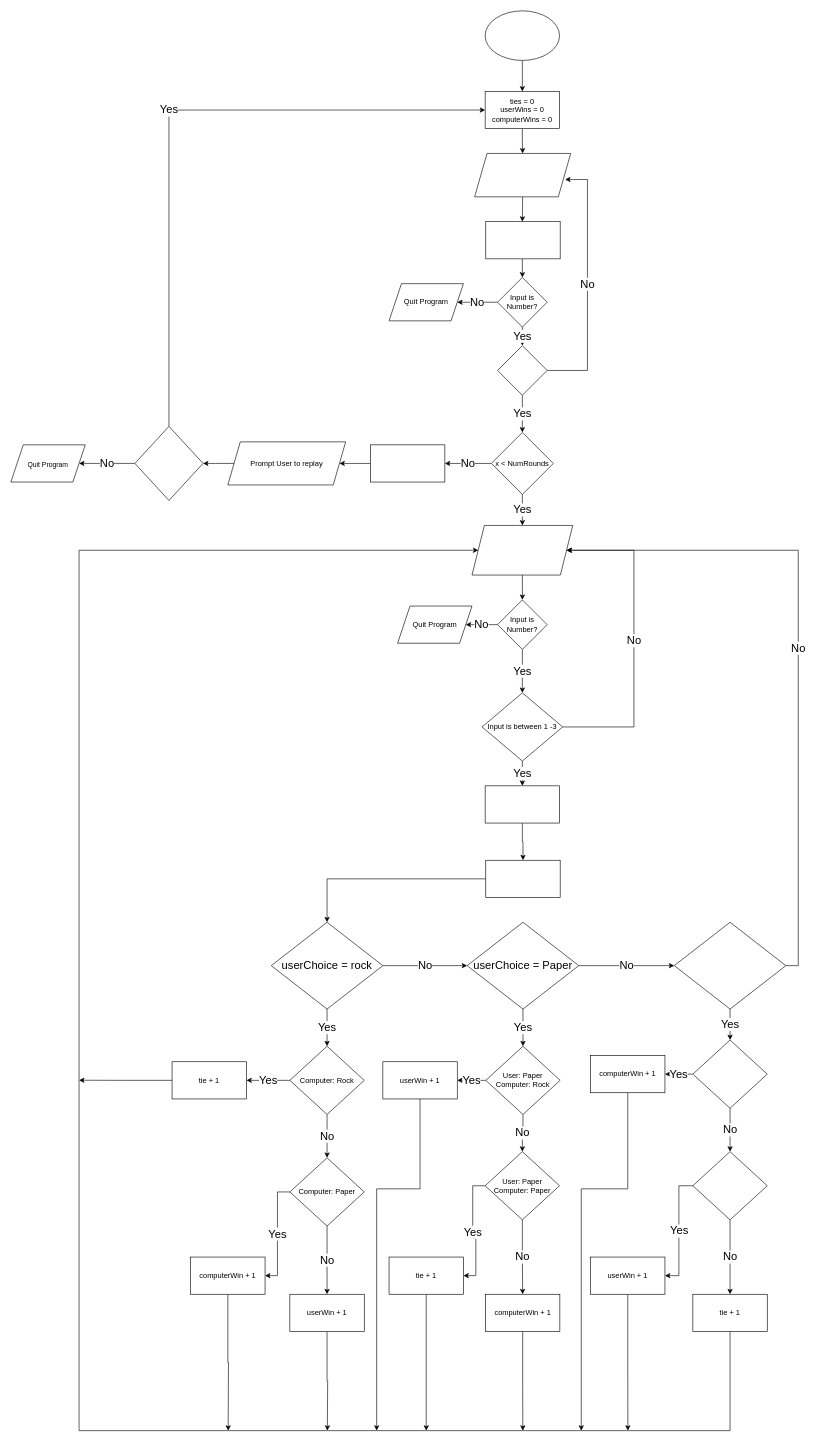
This 816x1446 diagram has some shape labels left out. The centre of each missing label's shape, as x and y in pixels:
Convert Input to Number: point 522,240
Display Results: point 407,463
Generate Random Computer Choice: point 522,804
Input is between 1 - 10: point 522,370
Prompt for number of rounds: point 522,175
Prompt for Rock, Paper, Scissor: point 522,550
Replay Yes or No?: point 168,463
Start: point 522,35
User: Scissor Computer: Paper: point 729,1185
User: Scissor Computer: Rock: point 729,1073
userChoice = Scissor: point 730,965
userChoice compare ComputerChoice: point 522,878
